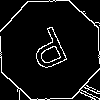P: (25, 25, 74, 80)
